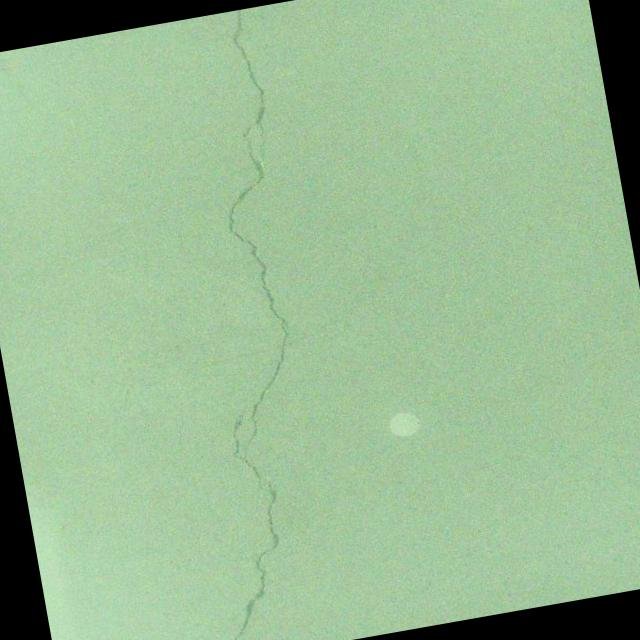crack: (111, 7, 362, 640)
